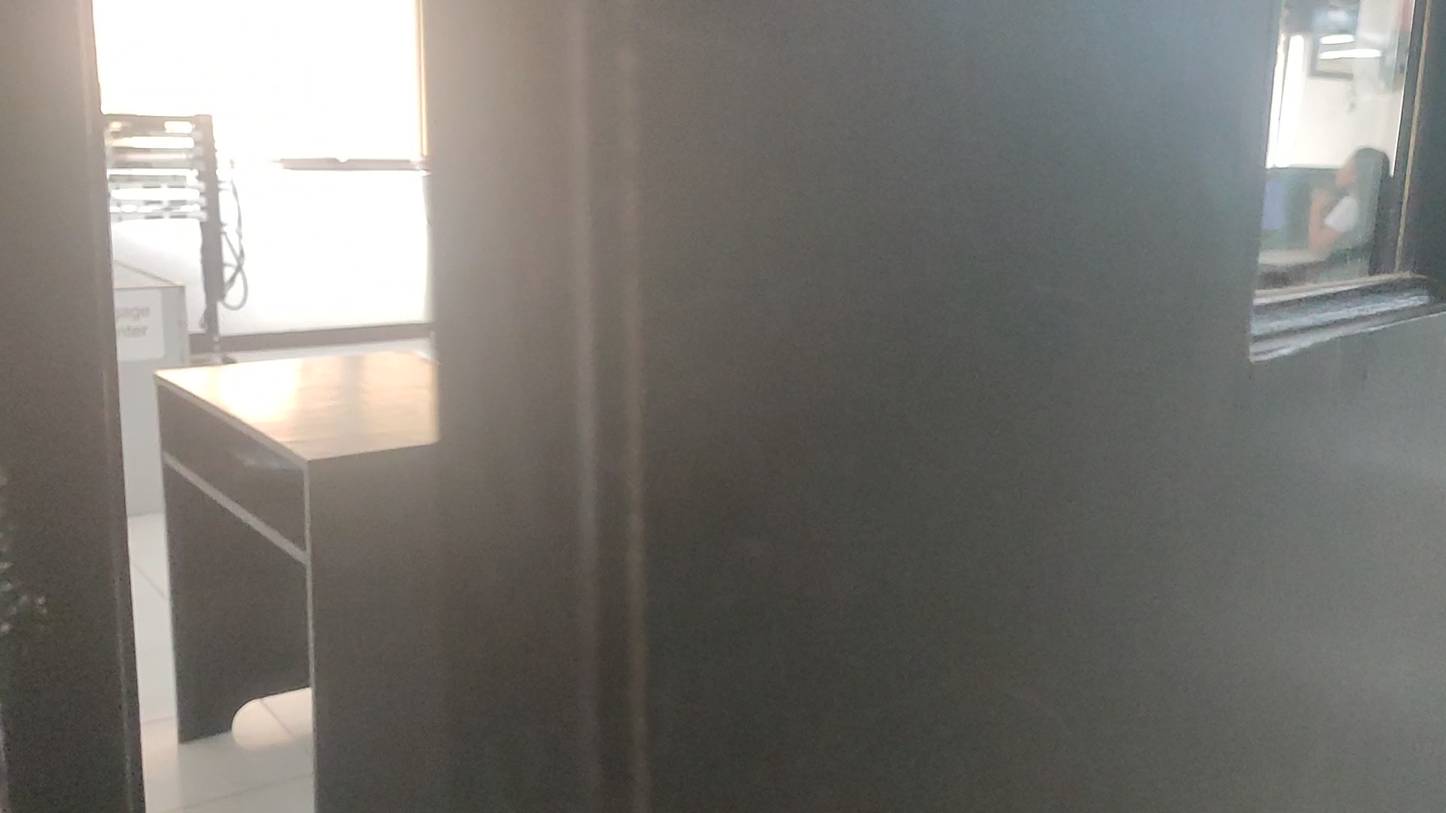desk: (153, 352, 440, 813)
door: (415, 0, 1446, 813)
